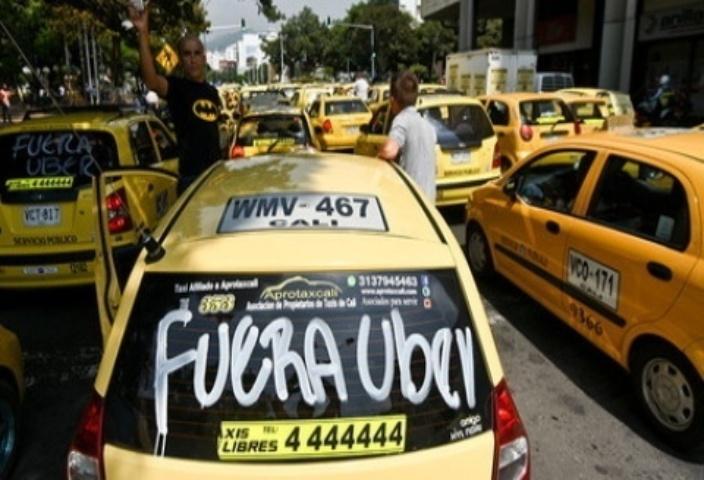taxi: (100, 132, 557, 480), (475, 148, 704, 418), (1, 81, 157, 297), (353, 91, 502, 213), (474, 86, 587, 177), (224, 99, 323, 177), (551, 84, 632, 146), (309, 89, 378, 149)
